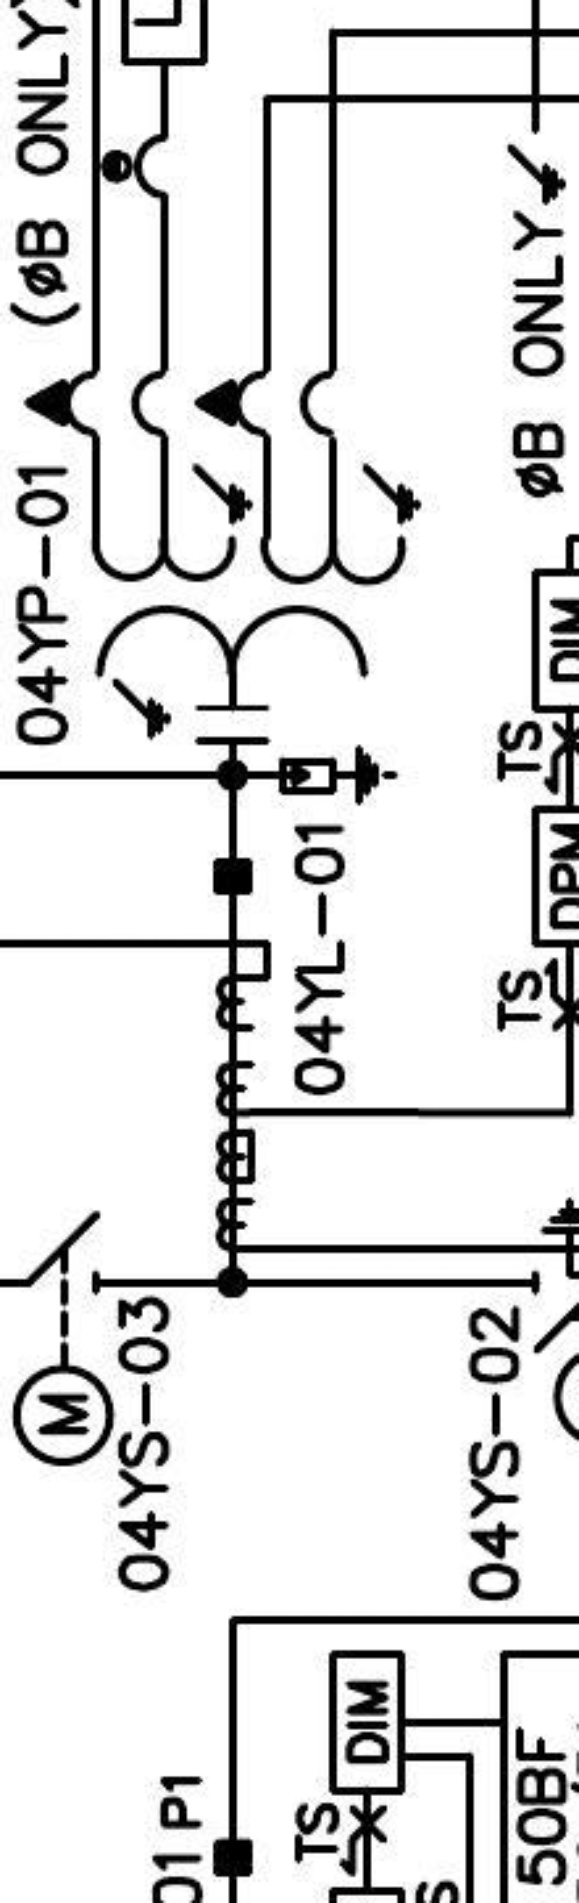115_1way_ds_w_motor: (9, 1209, 116, 1468)
115_cvt_1p: (23, 364, 425, 747)
115_la: (278, 744, 400, 807)
DIM: (327, 1649, 405, 1796)
